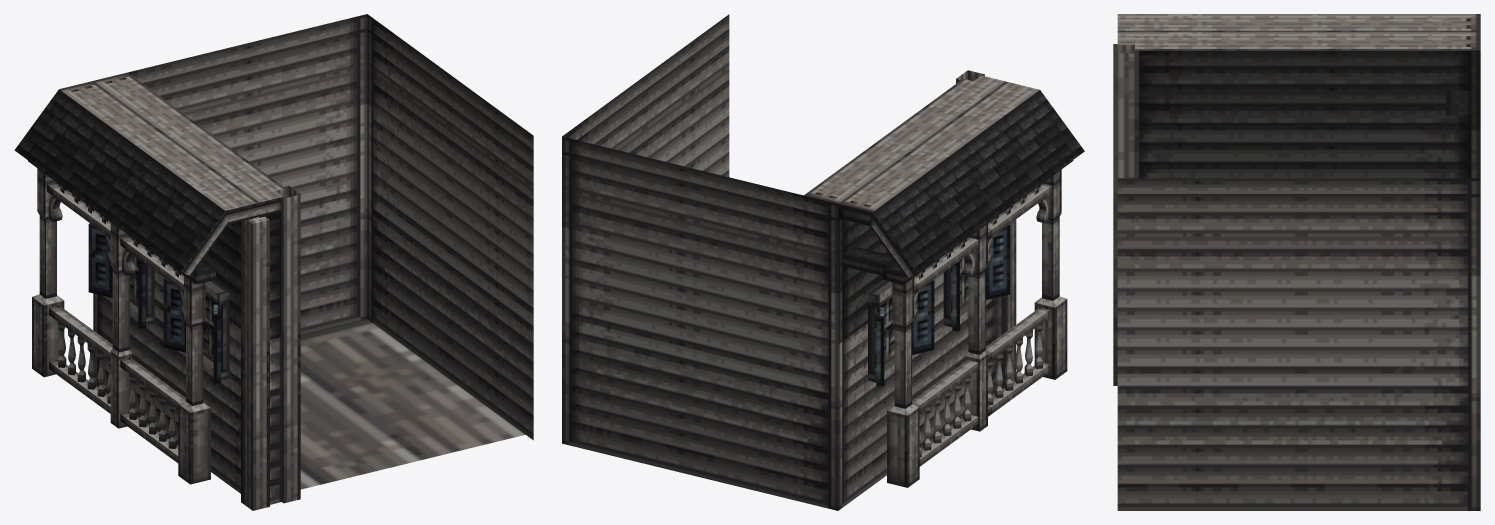
Rendered from EnvBdgMD_Wilderness_A_Outdoor_A_1F.FBX.
3 views of the same model, side by side, from view 1: azimuth 30°, elevation 25°; view 2: azimuth 150°, elevation 25°; view 3: azimuth 270°, elevation 25° (orthographic). The views are drawn at different scales.
Parts seen in each view (by area): view 1: EnvBdgMD_Wilderness_A_Outdoor_A_1F; view 2: EnvBdgMD_Wilderness_A_Outdoor_A_1F; view 3: EnvBdgMD_Wilderness_A_Outdoor_A_1F.
Part boxes in pixels (x1,y1,x2,y2): EnvBdgMD_Wilderness_A_Outdoor_A_1F: (14,14,533,510); EnvBdgMD_Wilderness_A_Outdoor_A_1F: (562,14,1084,510); EnvBdgMD_Wilderness_A_Outdoor_A_1F: (1113,14,1480,510).
Bounding box in the file's own units: 515 × 425 × 425.
Materials: 1 (1 with a texture image).
